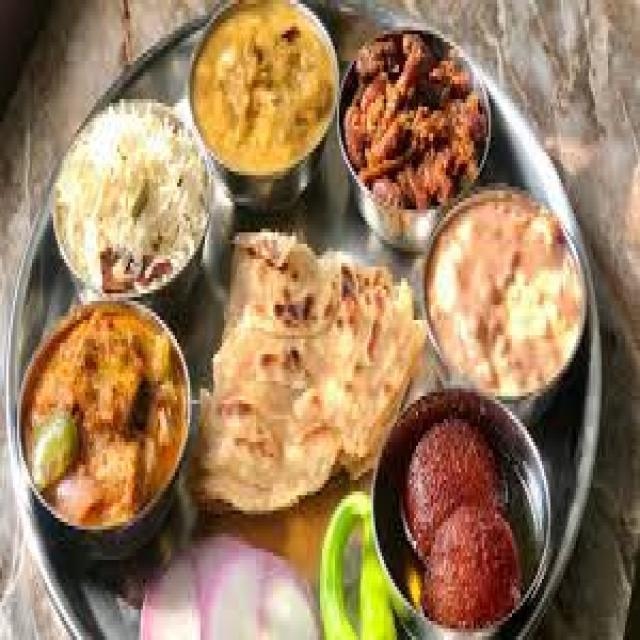dal: (20, 289, 188, 546), (187, 1, 337, 197)
rice: (433, 184, 587, 410), (53, 94, 210, 309)
roti: (198, 226, 410, 518)
sweet: (384, 397, 546, 634)
veg-fry: (15, 283, 192, 552), (423, 182, 584, 410), (337, 19, 497, 241)
